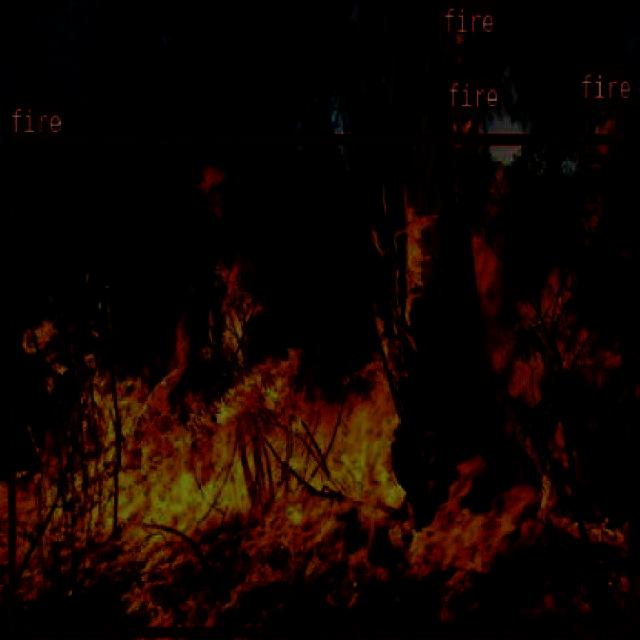fire: (7, 133, 633, 635), (578, 100, 620, 162), (440, 0, 474, 54), (446, 107, 476, 155)
